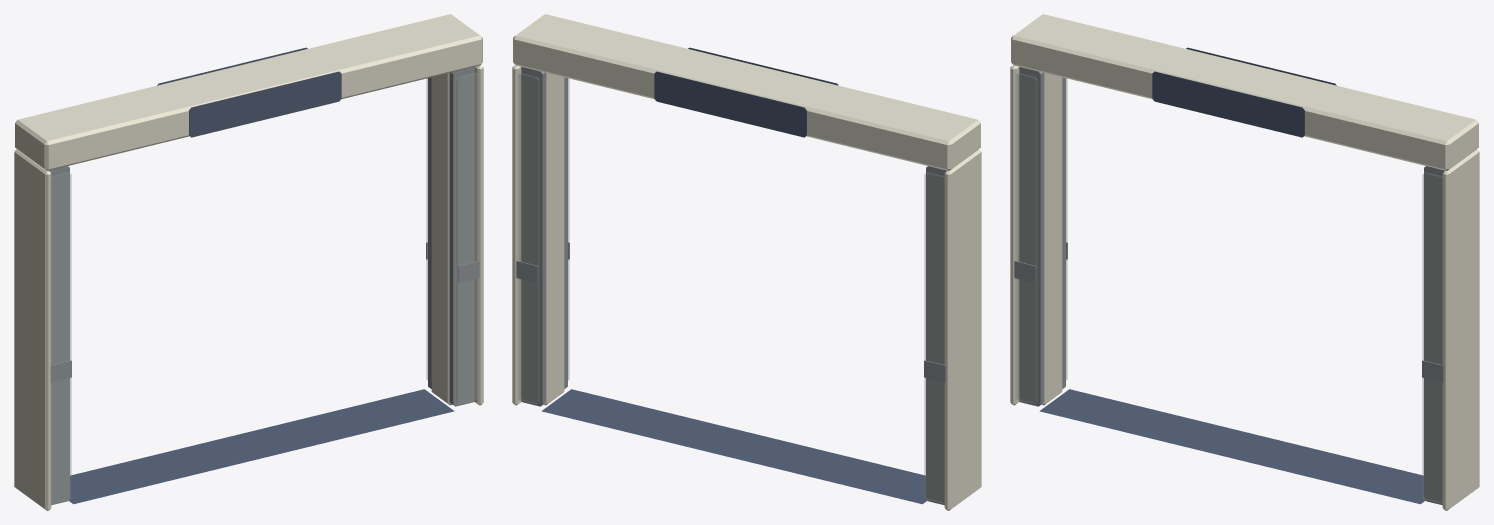
Rendered from bw_door_portal.glb.
3 views of the same model, side by side, from view 1: azimuth 30°, elevation 25°; view 2: azimuth 150°, elevation 25°; view 3: azimuth 330°, elevation 25° (orthographic).
Visible parts, largest first — view 1: header, pocket, sign_blank, parked_leaf; view 2: header, pocket, sign_blank, parked_leaf; view 3: header, pocket, sign_blank, parked_leaf.
Part boxes in pixels (x1,y1,x2,y2): header: (14, 14, 483, 510); pocket: (49, 67, 479, 505); sign_blank: (68, 47, 454, 504); parked_leaf: (51, 73, 477, 503); header: (512, 14, 981, 510); pocket: (516, 67, 946, 505); sign_blank: (541, 47, 927, 504); parked_leaf: (518, 73, 944, 503); header: (1010, 14, 1479, 510); pocket: (1014, 67, 1444, 505); sign_blank: (1039, 47, 1425, 504); parked_leaf: (1016, 73, 1442, 503).
Size of the model in its own units: 4.6 by 3.7 by 0.6.
